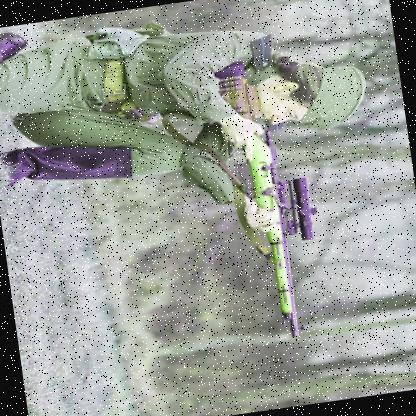rifle: (194, 55, 328, 348)
